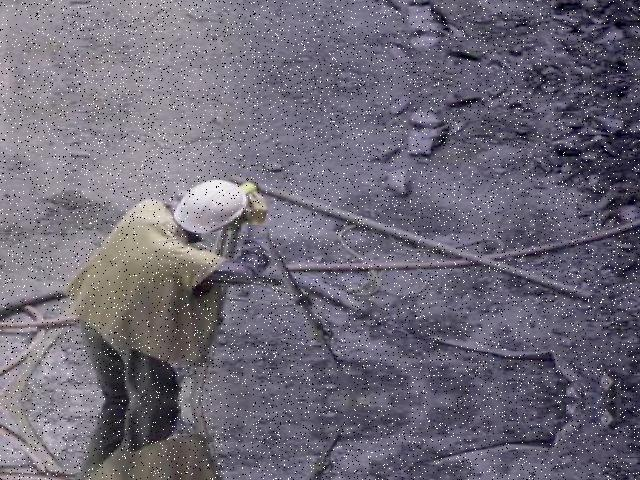Helmet: (168, 177, 249, 241)
